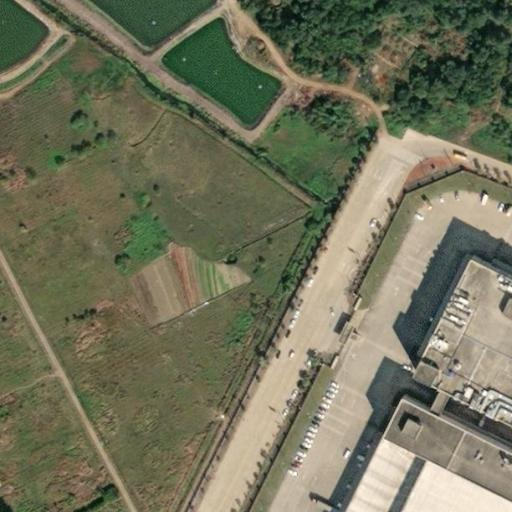building: (330, 392, 512, 512), (405, 253, 512, 421), (422, 381, 442, 410)
